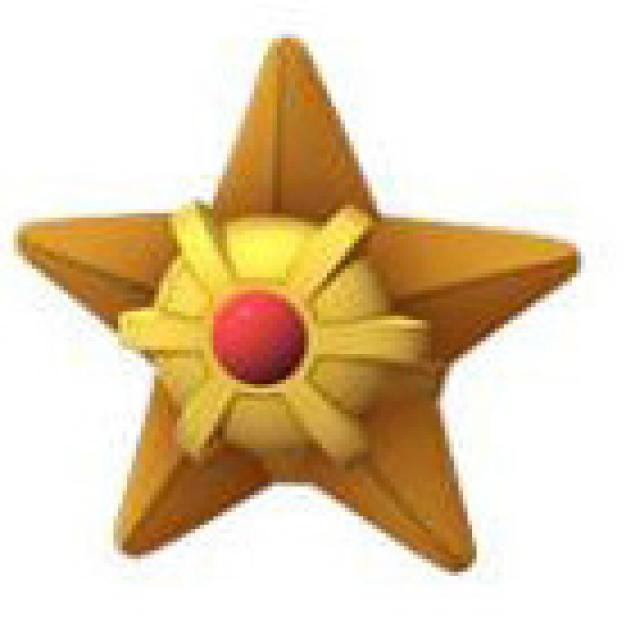Staryu: (16, 37, 578, 563)
